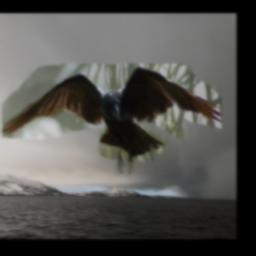Crow: (3, 64, 223, 175)
